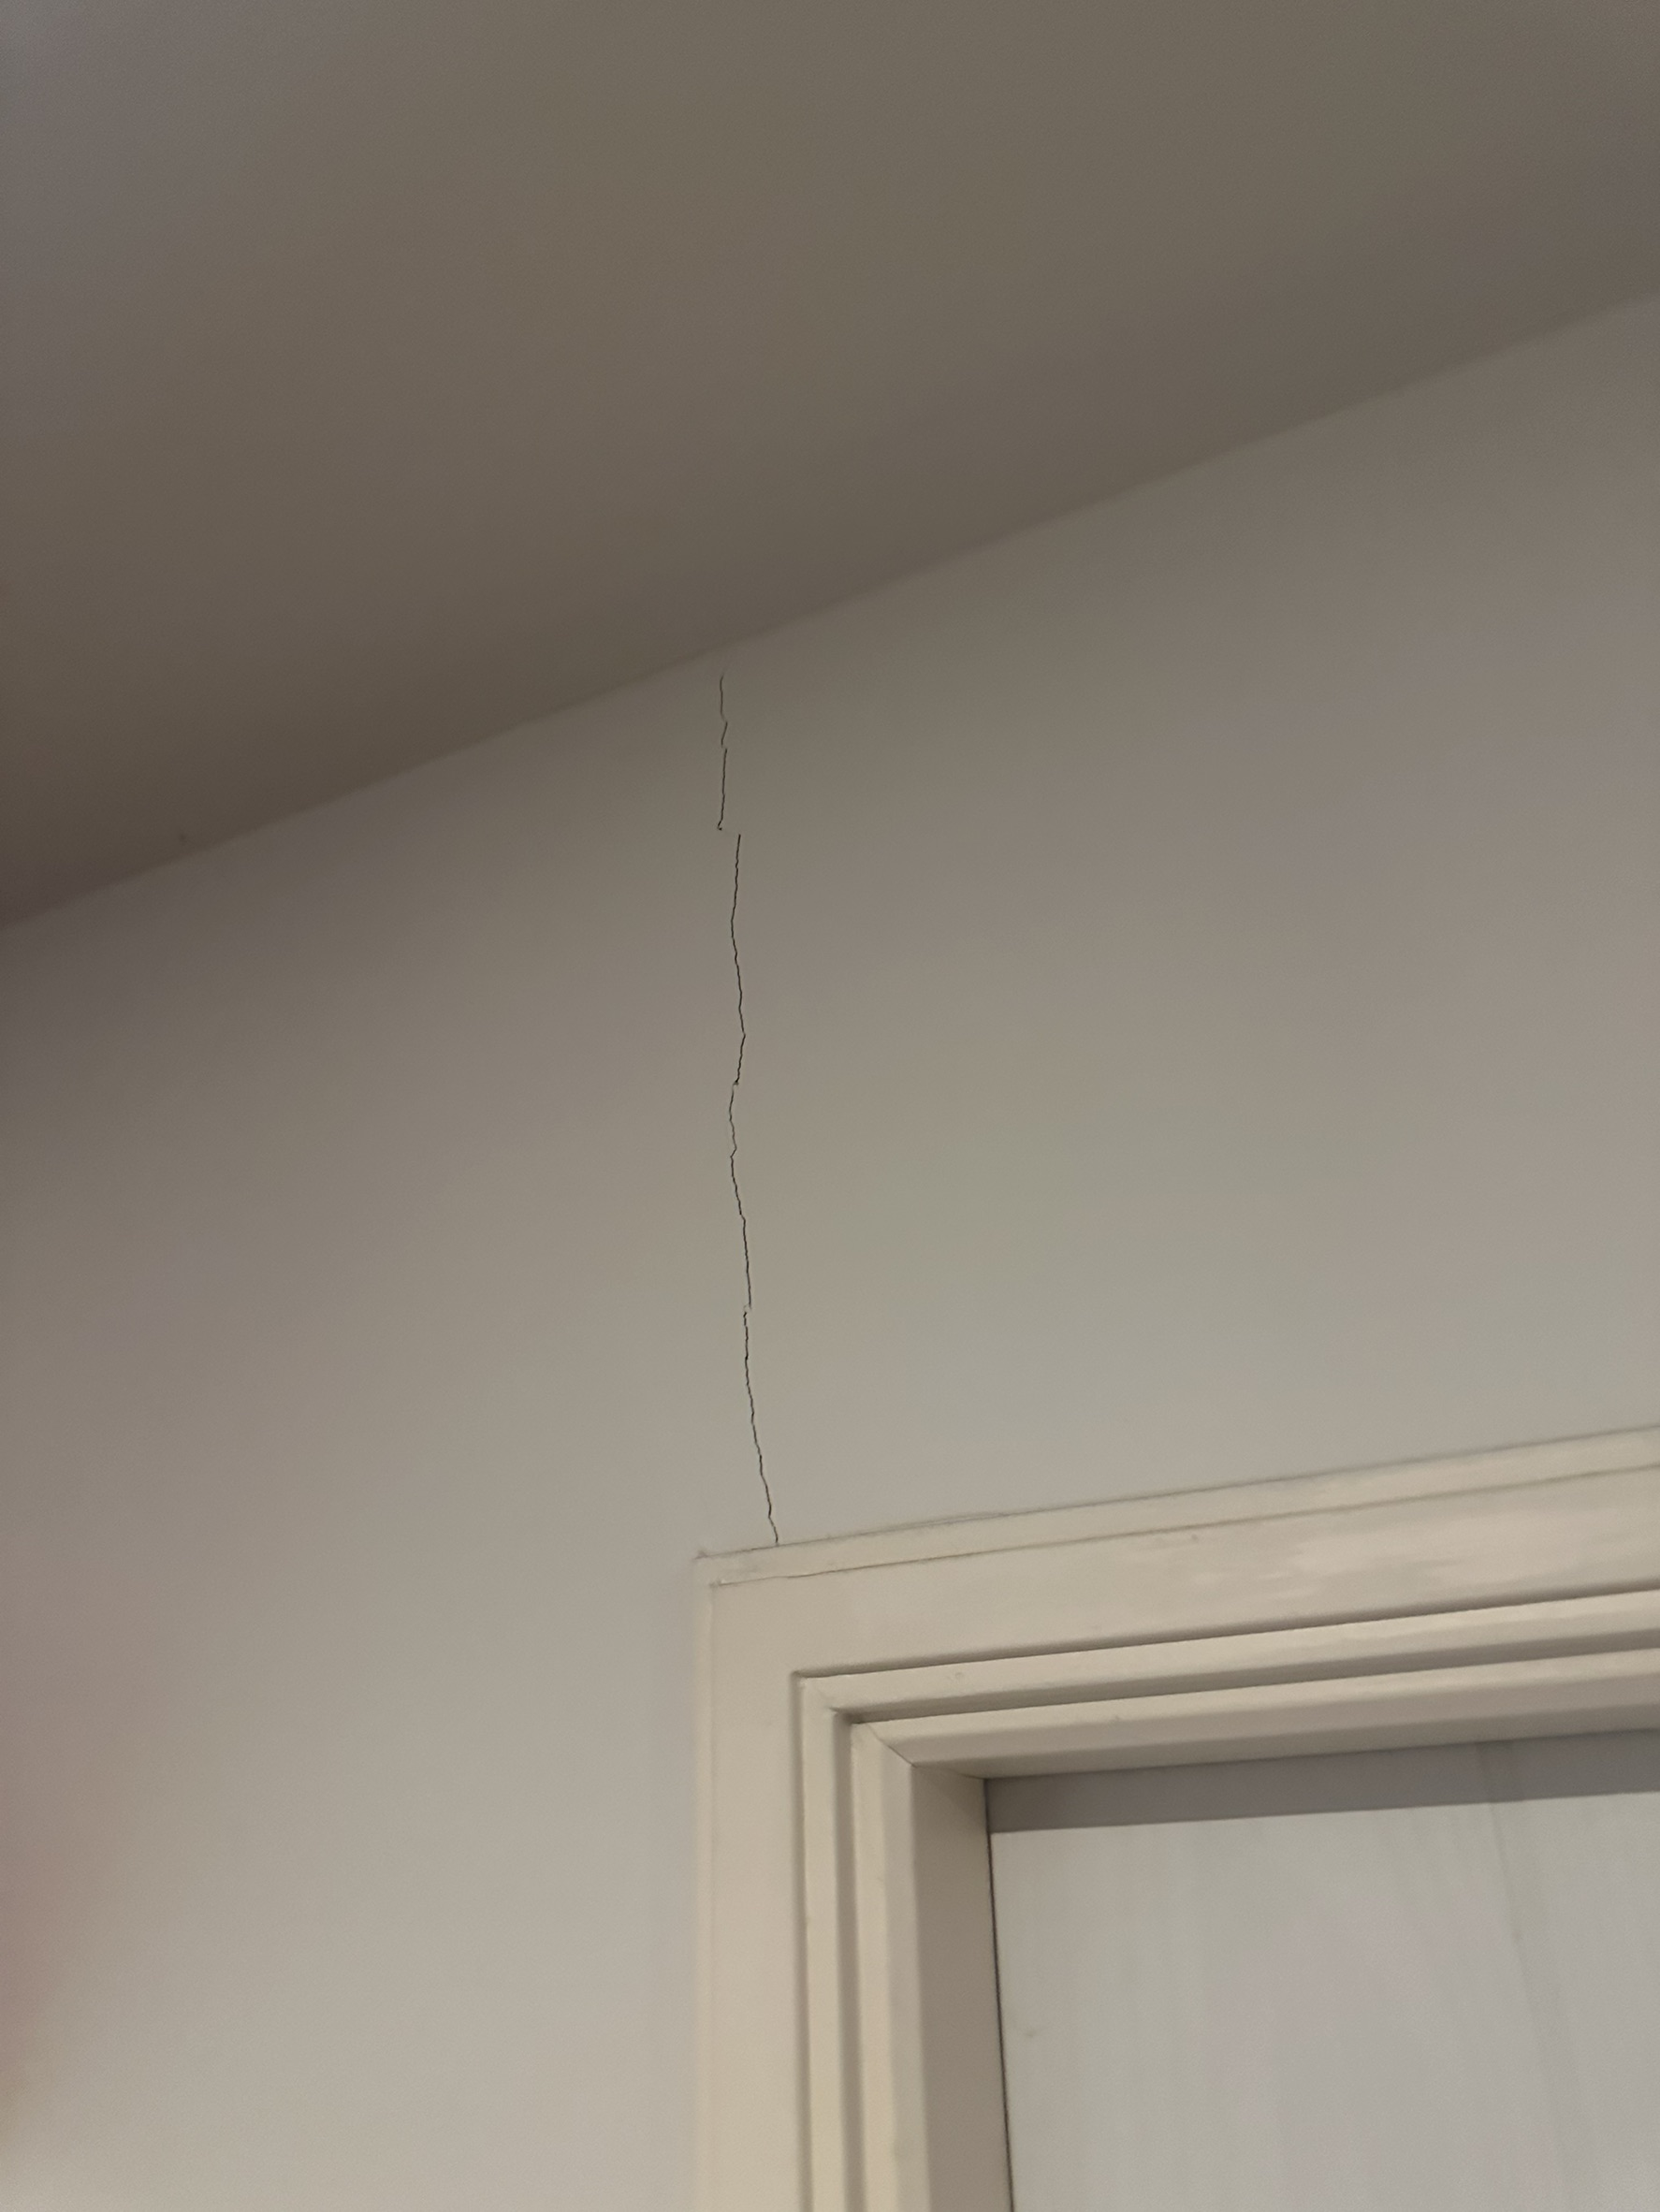Low: (701, 654, 870, 1583)
